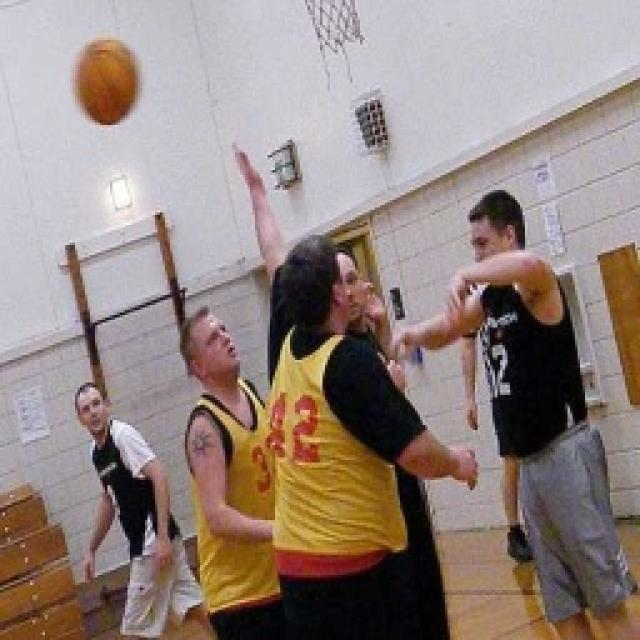rim: (72, 36, 140, 127)
